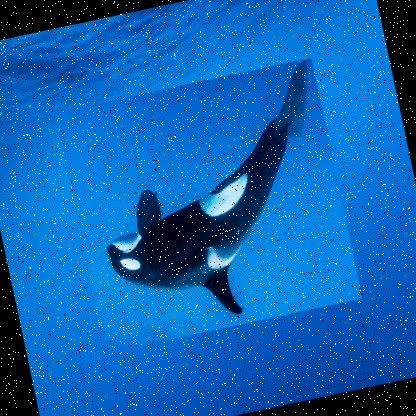killer_whale: (54, 57, 364, 353)
